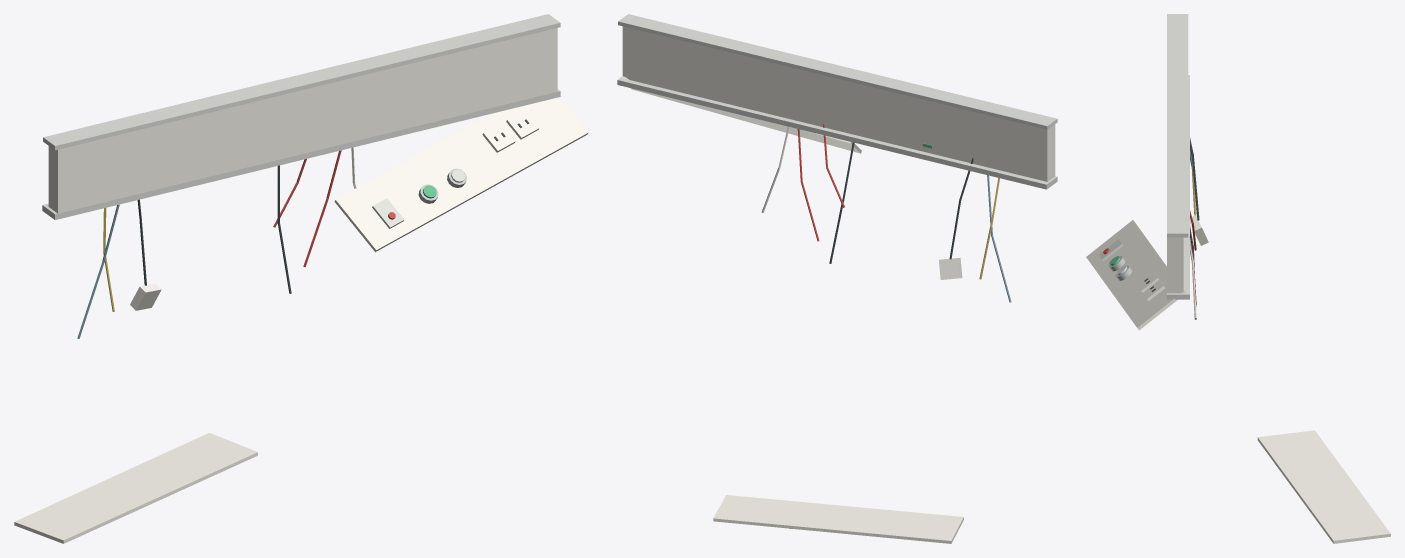
The model's file is headwall_panel_broken.fbx.
3 renders of one model, left to right at view 1: azimuth 30°, elevation 25°; view 2: azimuth 150°, elevation 25°; view 3: azimuth 270°, elevation 25°, orthographic. The views are drawn at different scales.
Visible parts, largest first — view 1: headwall_panel_broken, headwall_panel_broken_debris; view 2: headwall_panel_broken, headwall_panel_broken_debris; view 3: headwall_panel_broken, headwall_panel_broken_debris.
Part boxes in pixels (box(x1,y1,x2,y2)): headwall_panel_broken: box(42, 14, 588, 338); headwall_panel_broken_debris: box(14, 432, 257, 543); headwall_panel_broken: box(617, 14, 1057, 302); headwall_panel_broken_debris: box(713, 495, 963, 543); headwall_panel_broken: box(1086, 14, 1208, 330); headwall_panel_broken_debris: box(1257, 430, 1390, 543).
Bounding box in the file's own units: 186 × 158 × 107.
